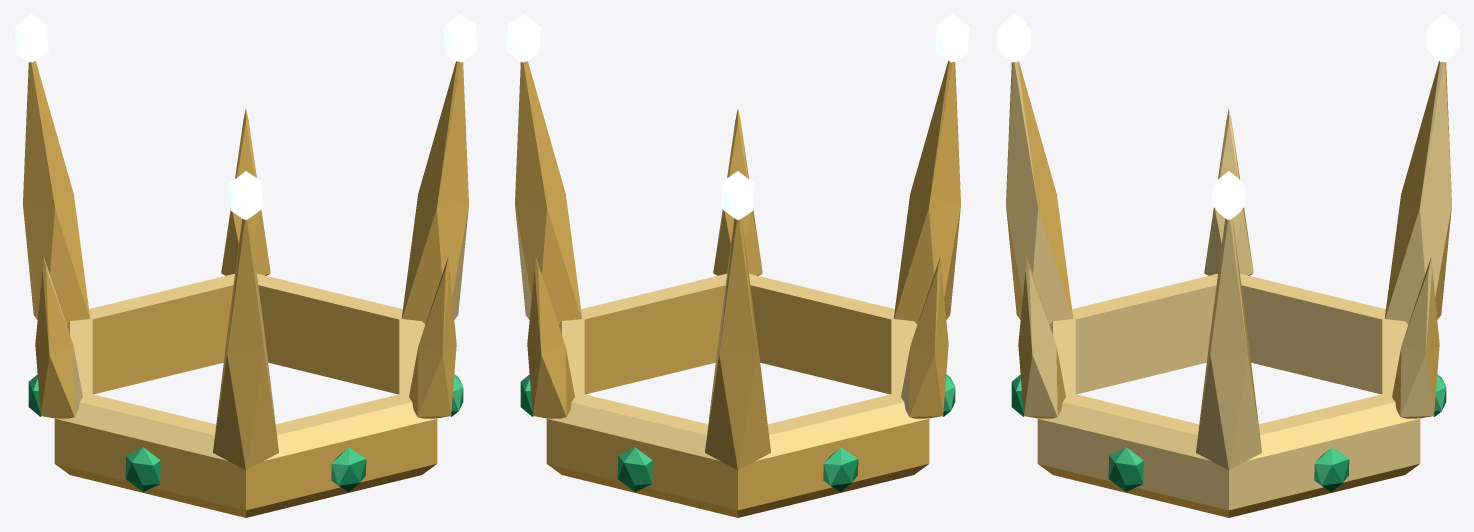
Rendered from KirinVFX_CrownSpire.fbx.
3 renders of one model, left to right at view 1: azimuth 30°, elevation 25°; view 2: azimuth 150°, elevation 25°; view 3: azimuth 270°, elevation 25°, orthographic.
Parts seen in each view (by area): view 1: KirinVFX_CrownSpire_Body, KirinVFX_CrownSpire_Glow_89ffd3; view 2: KirinVFX_CrownSpire_Body, KirinVFX_CrownSpire_Glow_89ffd3; view 3: KirinVFX_CrownSpire_Body, KirinVFX_CrownSpire_Glow_89ffd3.
Part boxes in pixels (<box>): KirinVFX_CrownSpire_Body: <box>23,61,468,517</box>; KirinVFX_CrownSpire_Glow_89ffd3: <box>14,14,477,219</box>; KirinVFX_CrownSpire_Body: <box>515,61,960,517</box>; KirinVFX_CrownSpire_Glow_89ffd3: <box>506,14,969,219</box>; KirinVFX_CrownSpire_Body: <box>1006,61,1451,517</box>; KirinVFX_CrownSpire_Glow_89ffd3: <box>998,14,1459,219</box>.
Bounding box in the file's own units: 0.3632 × 0.292 × 0.3342.
Materials: 2 (1 with a texture image).
